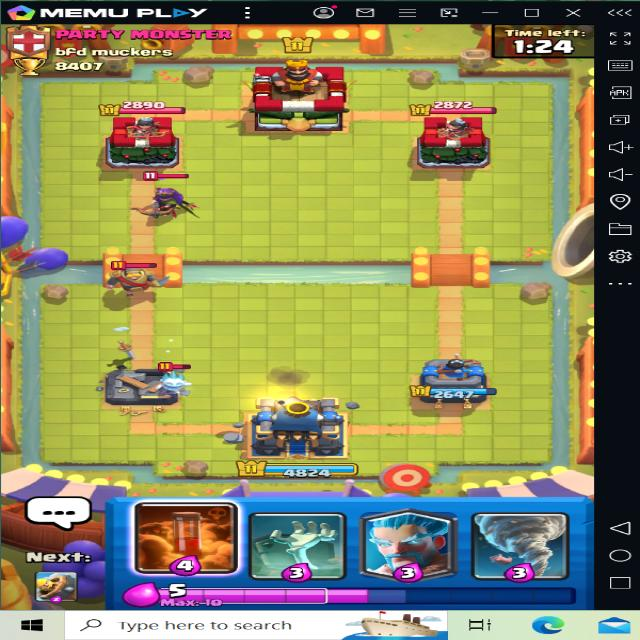archer-queen: (134, 168, 202, 223)
ice-spirit: (134, 362, 209, 401)
knight: (98, 254, 177, 301)
